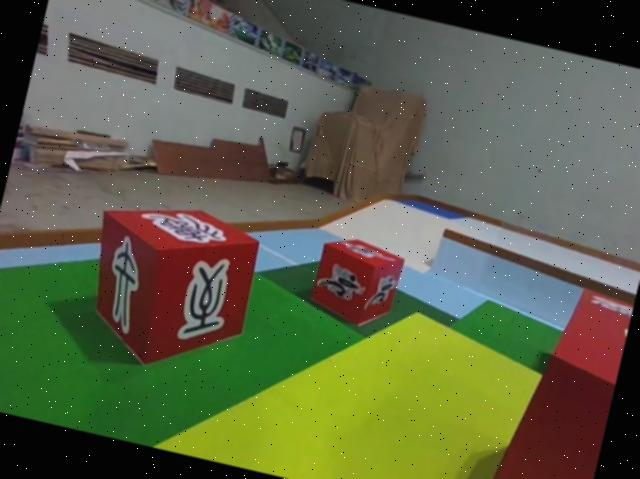R1: (304, 228, 408, 333)
R2 Fake: (66, 185, 267, 387)
